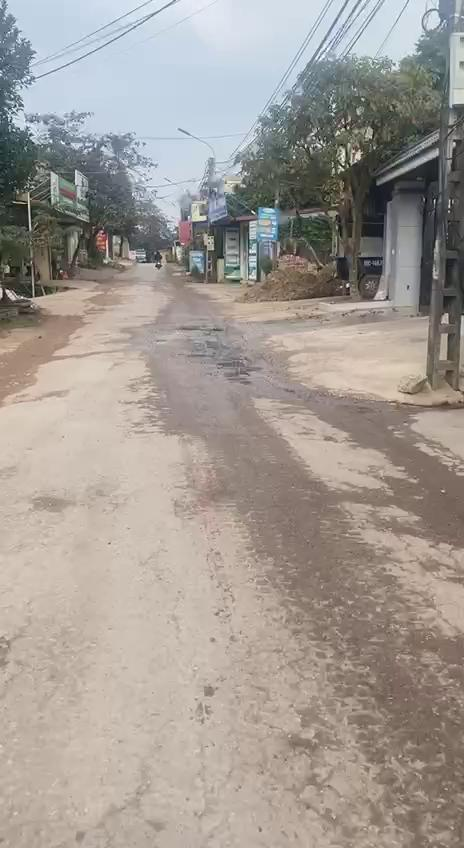pothole: (216, 356, 260, 387), (35, 495, 70, 515), (205, 334, 231, 354)
